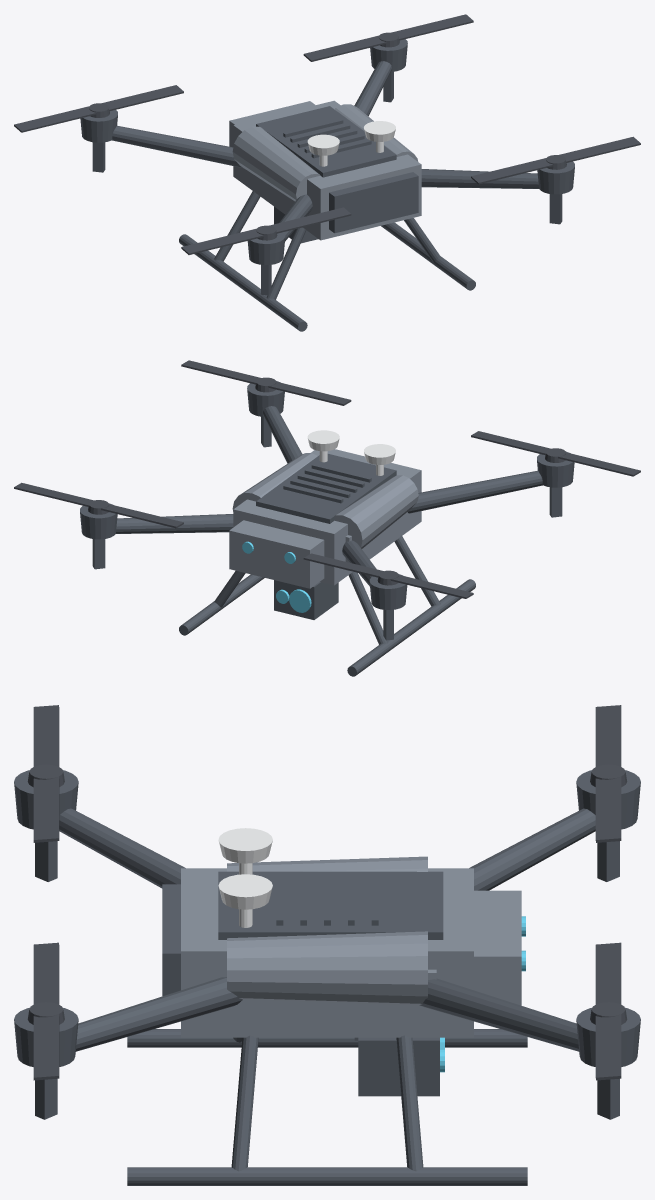
The model's file is uav-350-rtk.glb.
3 views of the same model, one above another, from view 1: azimuth 30°, elevation 25°; view 2: azimuth 150°, elevation 25°; view 3: azimuth 270°, elevation 25° (orthographic). The views are drawn at different scales.
Parts seen in each view (by area): view 1: Carbon_Frame_And_Payload, Fuselage_Chassis, Rotor_FR, Rotor_RL, Rotor_FL, Rotor_RR, RTK_GNSS_Antennas; view 2: Carbon_Frame_And_Payload, Fuselage_Chassis, Rotor_RR, Rotor_FL, Rotor_FR, Rotor_RL, RTK_GNSS_Antennas, Optical_Sensors_Lenses; view 3: Carbon_Frame_And_Payload, Fuselage_Chassis, Rotor_FL, Rotor_RL, Rotor_RR, Rotor_FR, RTK_GNSS_Antennas.
Boxes of the visible parts, x1,y1,x2,y2 form: Carbon_Frame_And_Payload: (80, 39, 574, 331); Fuselage_Chassis: (229, 100, 421, 240); Rotor_FR: (303, 14, 473, 61); Rotor_RL: (181, 207, 351, 254); Rotor_FL: (14, 85, 183, 132); Rotor_RR: (471, 136, 640, 184); RTK_GNSS_Antennas: (307, 121, 395, 166); Carbon_Frame_And_Payload: (80, 381, 574, 676); Fuselage_Chassis: (229, 449, 421, 588); Rotor_RR: (181, 360, 351, 405); Rotor_FL: (303, 553, 473, 598); Rotor_FR: (14, 482, 183, 528); Rotor_RL: (471, 431, 640, 476); RTK_GNSS_Antennas: (307, 430, 395, 475); Optical_Sensors_Lenses: (242, 541, 311, 612); Carbon_Frame_And_Payload: (14, 770, 640, 1185); Fuselage_Chassis: (181, 856, 521, 1037); Rotor_FL: (590, 705, 627, 842); Rotor_RL: (27, 705, 64, 842); Rotor_RR: (27, 942, 64, 1080); Rotor_FR: (590, 942, 627, 1080); RTK_GNSS_Antennas: (218, 828, 272, 927).
Size of the model in its own units: 5.15 by 1.64 by 3.68.
